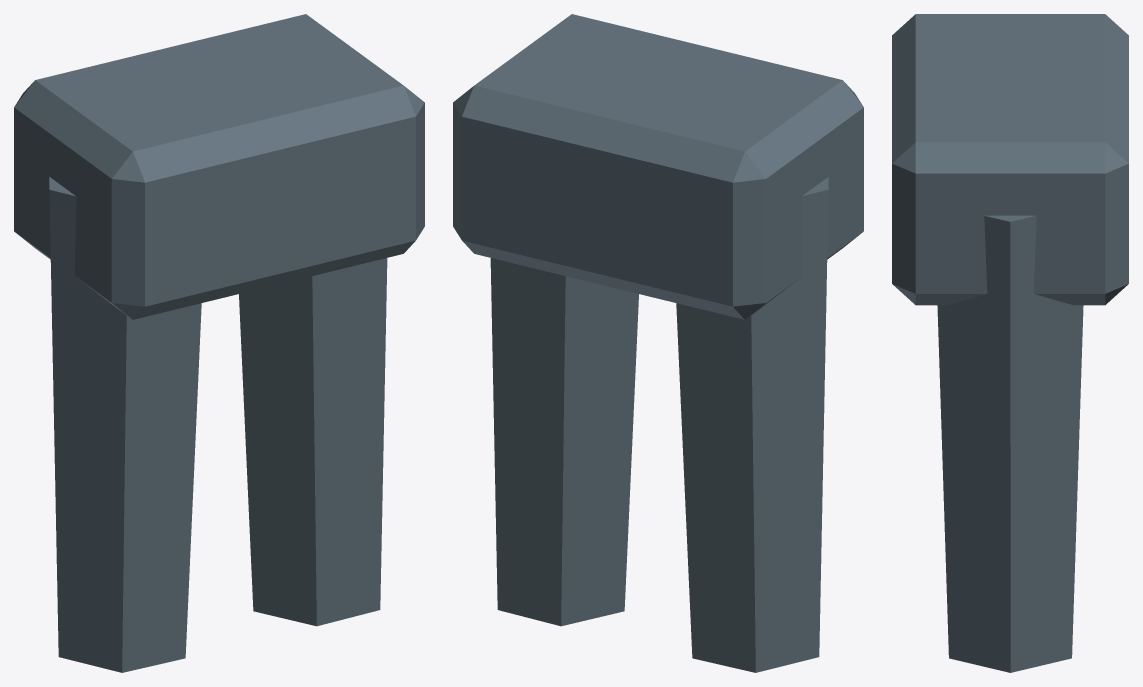
File: SM_NPC_Legs_00_Trousers.glb
3 renders of one model, left to right at view 1: azimuth 30°, elevation 25°; view 2: azimuth 150°, elevation 25°; view 3: azimuth 270°, elevation 25°, orthographic. The views are drawn at different scales.
Visible parts, largest first — view 1: SM_NPC_Legs_00_Trousers; view 2: SM_NPC_Legs_00_Trousers; view 3: SM_NPC_Legs_00_Trousers.
Boxes of the visible parts, x1,y1,x2,y2 form: SM_NPC_Legs_00_Trousers: [14, 14, 424, 672]; SM_NPC_Legs_00_Trousers: [453, 14, 863, 672]; SM_NPC_Legs_00_Trousers: [892, 14, 1128, 672].
Size of the model in its own units: 0.402 by 0.606 by 0.25.
